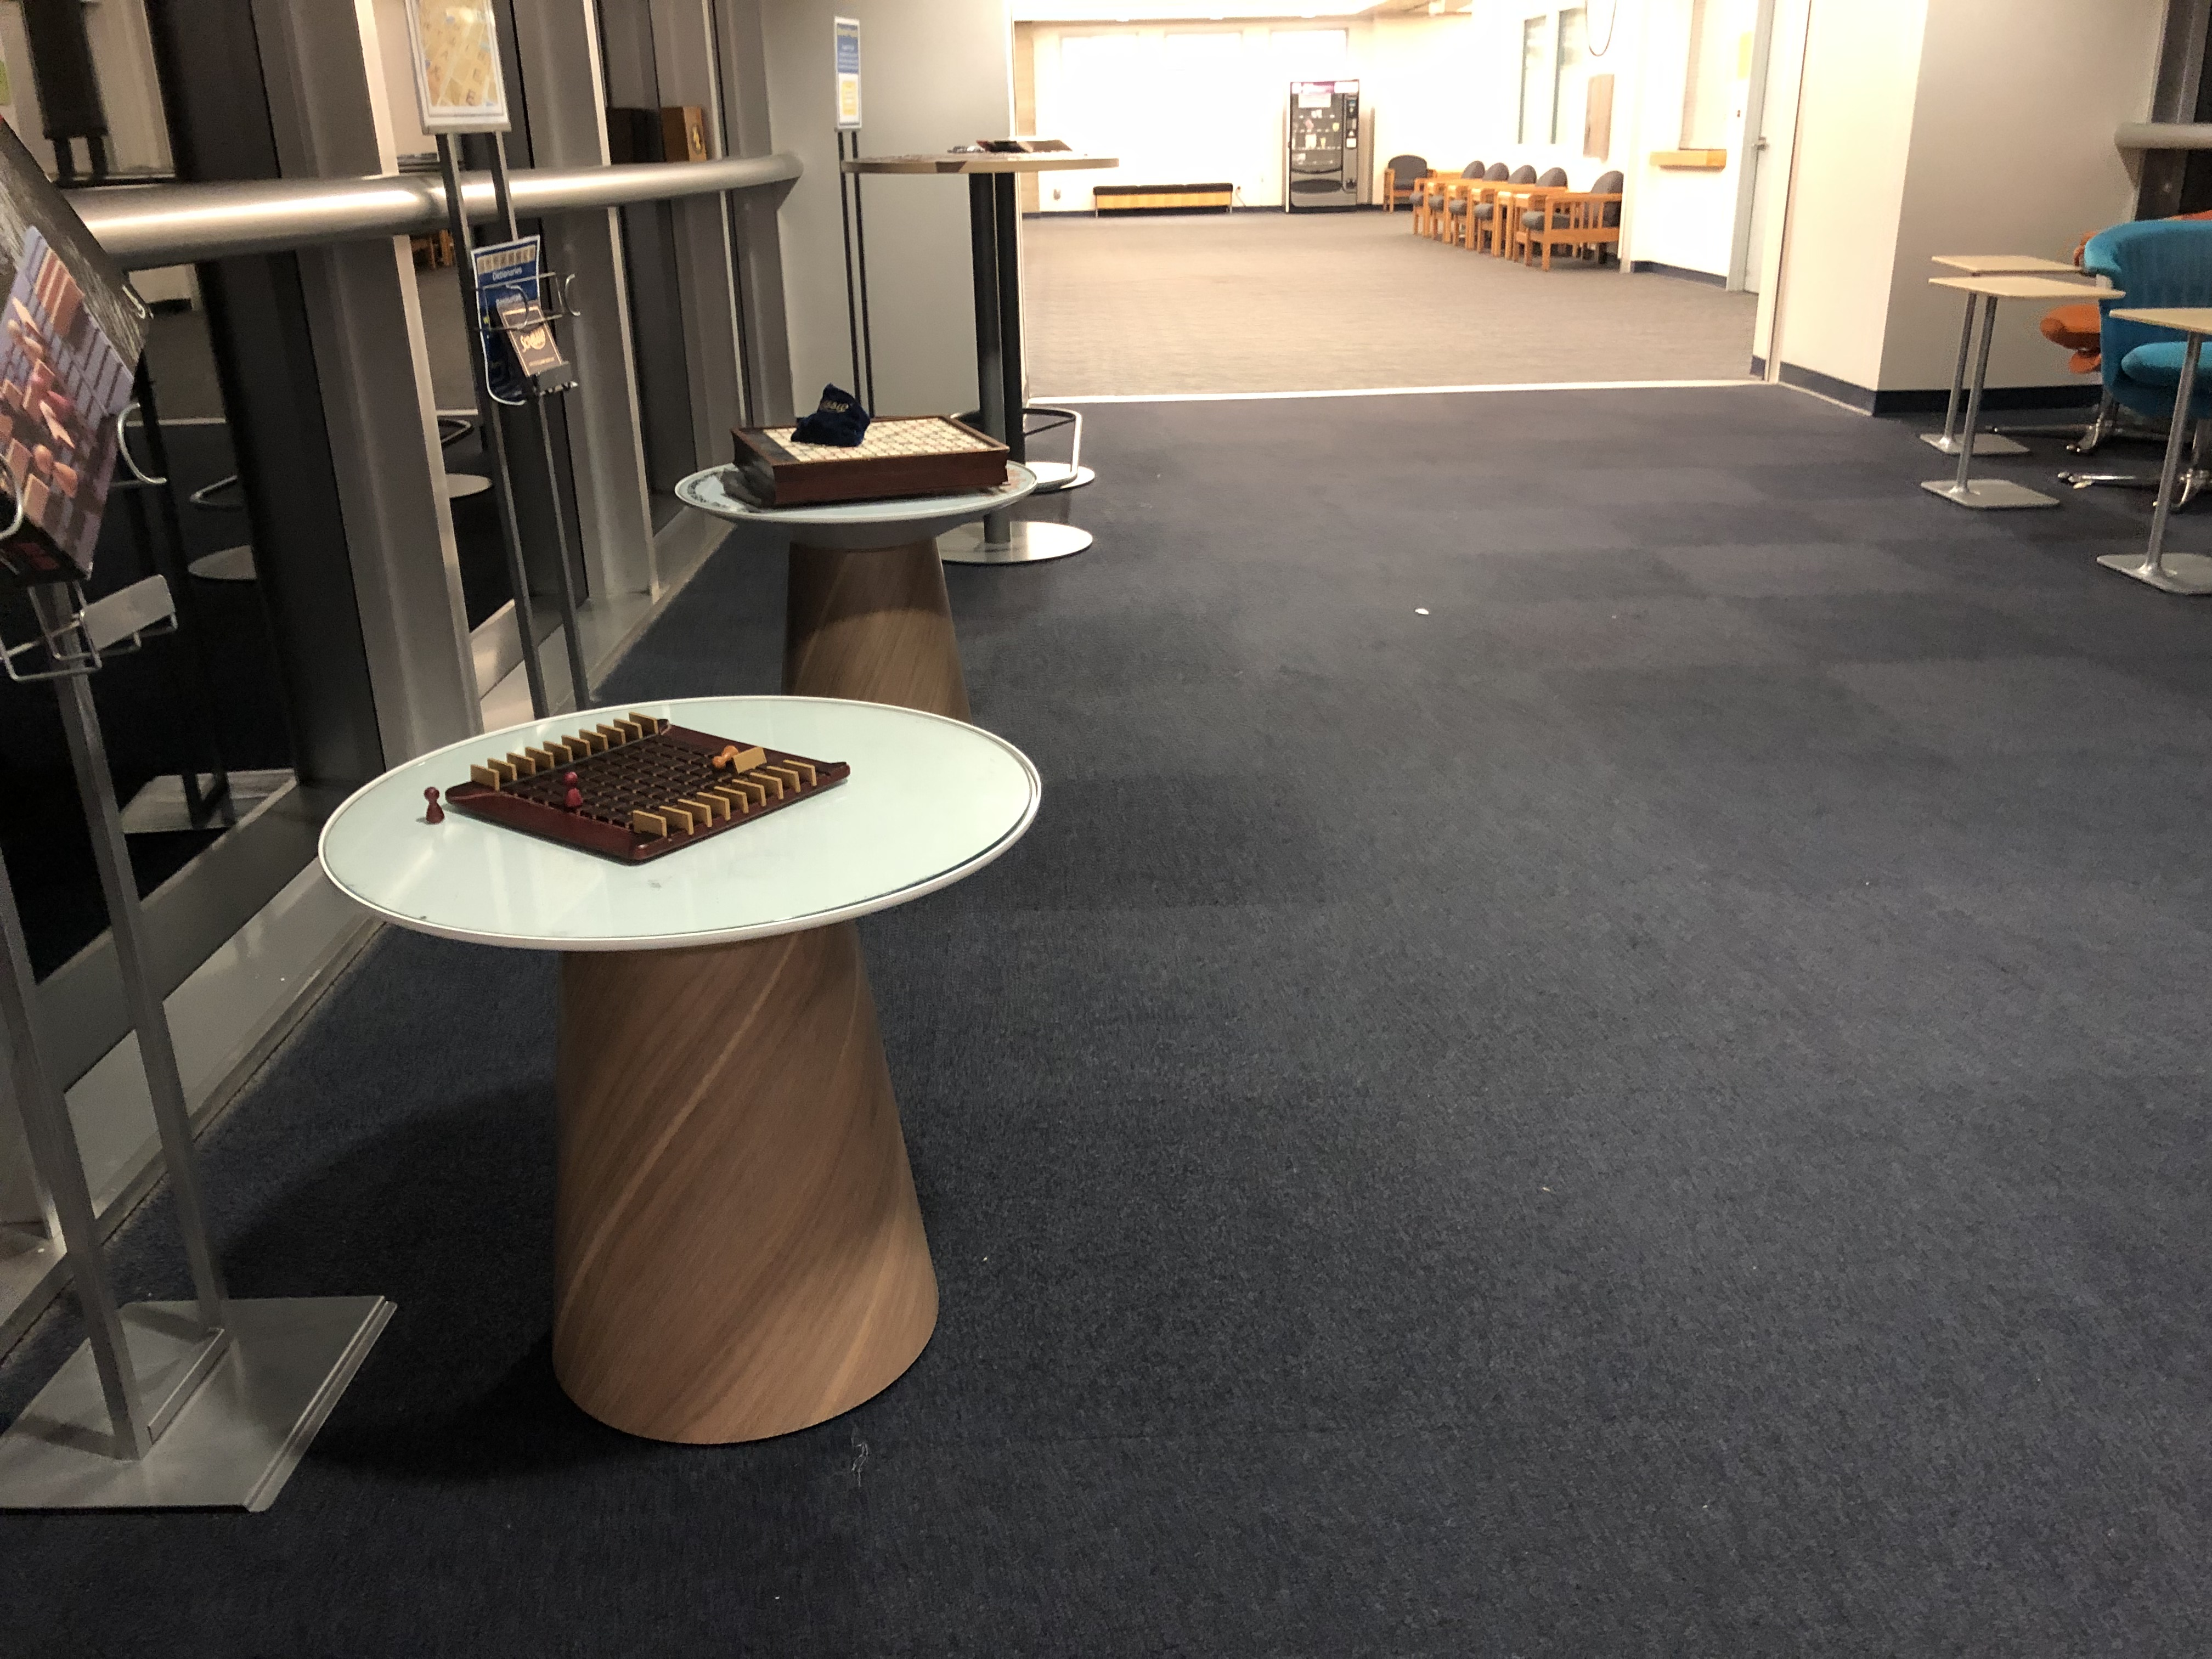Obstacle: (317, 699, 1050, 1476), (9, 141, 420, 1521), (664, 392, 1090, 709), (1916, 228, 2207, 603), (860, 120, 1118, 518)
